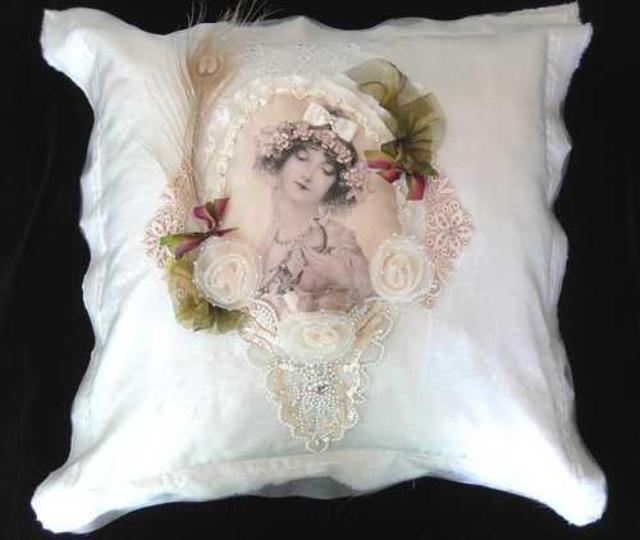pillow: (30, 1, 608, 534)
